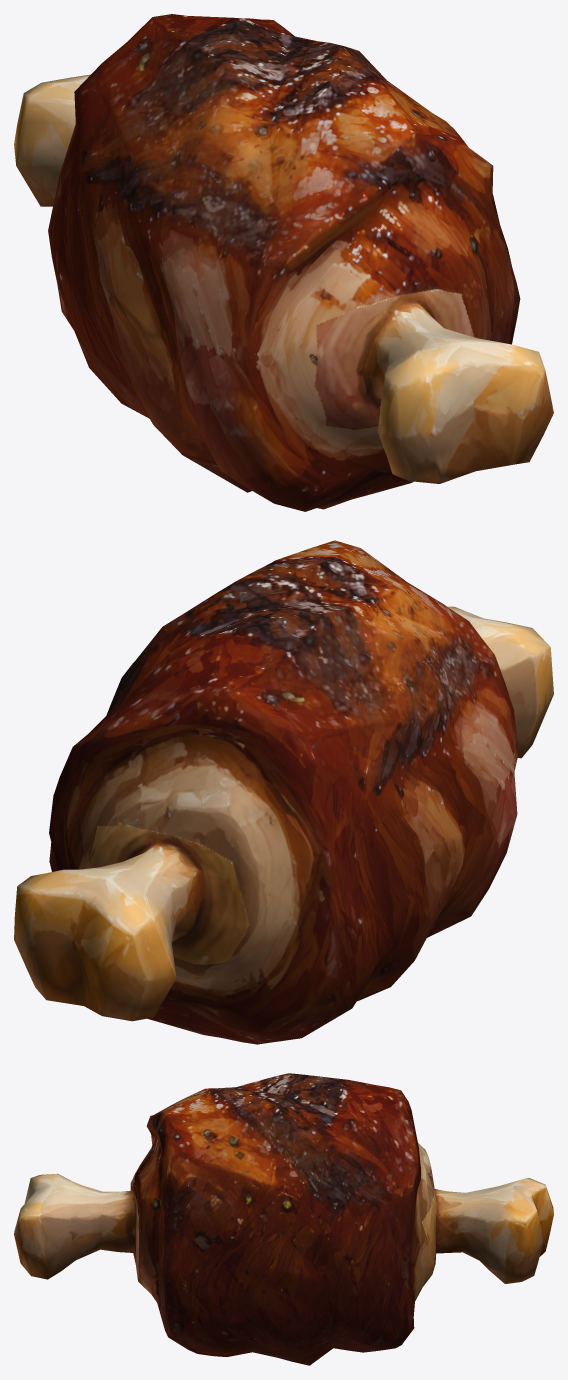
File: Item_MeatCooked.fbx
The picture shows the model from 3 angles, top to bottom: view 1: azimuth 30°, elevation 25°; view 2: azimuth 150°, elevation 25°; view 3: azimuth 270°, elevation 25°; orthographic projection. The views are drawn at different scales.
Visible parts, largest first — view 1: texture_mapping; view 2: texture_mapping; view 3: texture_mapping.
Part boxes in pixels (left/top/right/bottom): texture_mapping: left=14, top=14, right=553, bottom=511; texture_mapping: left=14, top=540, right=553, bottom=1044; texture_mapping: left=14, top=1073, right=553, bottom=1365.
Bounding box in the file's own units: 0.4491 × 1 × 0.5521.
Materials: 1 (1 with a texture image).
